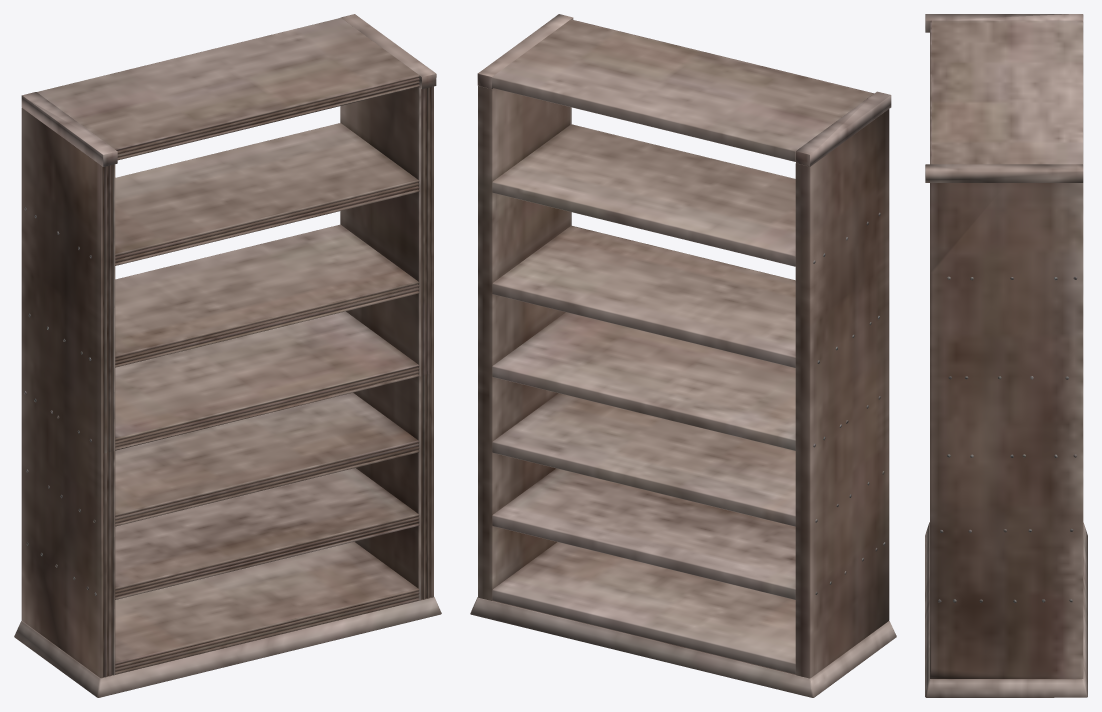
The model's file is bookshelf.glb.
The picture shows the model from 3 angles, left to right: view 1: azimuth 30°, elevation 25°; view 2: azimuth 150°, elevation 25°; view 3: azimuth 270°, elevation 25°; orthographic projection. The views are drawn at different scales.
Parts seen in each view (by area): view 1: wooden_bookshelf_worn; view 2: wooden_bookshelf_worn; view 3: wooden_bookshelf_worn.
Part boxes in pixels (x1=…): wooden_bookshelf_worn: x1=14, y1=14, x2=441, y2=697; wooden_bookshelf_worn: x1=470, y1=14, x2=896, y2=697; wooden_bookshelf_worn: x1=925, y1=14, x2=1087, y2=697.
Size of the model in its own units: 1.37 by 2.06 by 0.5813.
Materials: 1 (1 with a texture image).
